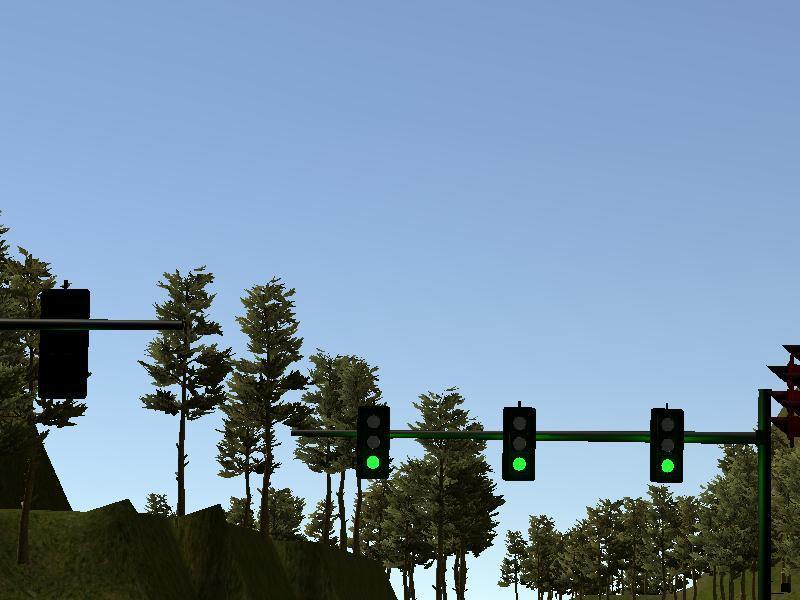Green: (500, 411, 535, 479), (355, 409, 388, 479), (654, 407, 682, 480)
